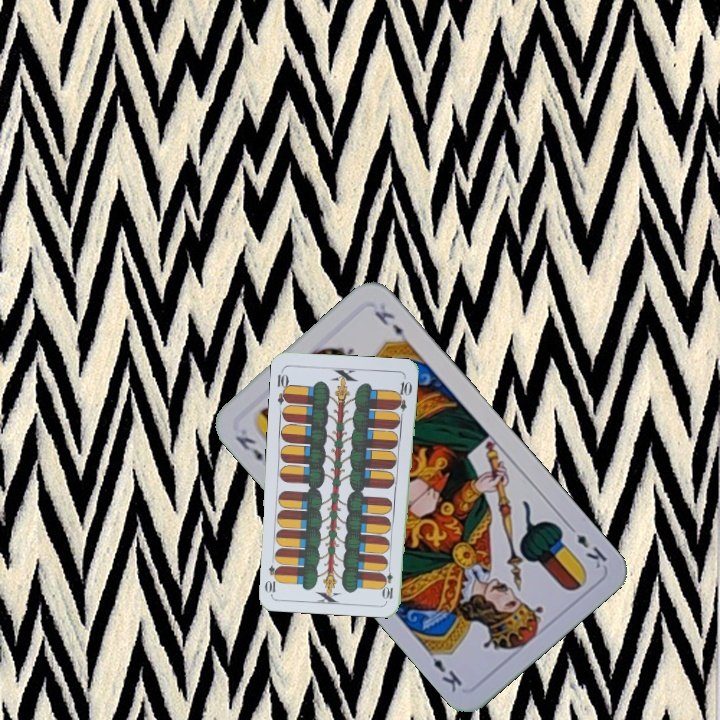E10: (273, 366, 292, 407), (381, 561, 396, 602)
EK: (563, 519, 610, 571), (231, 431, 266, 464)
